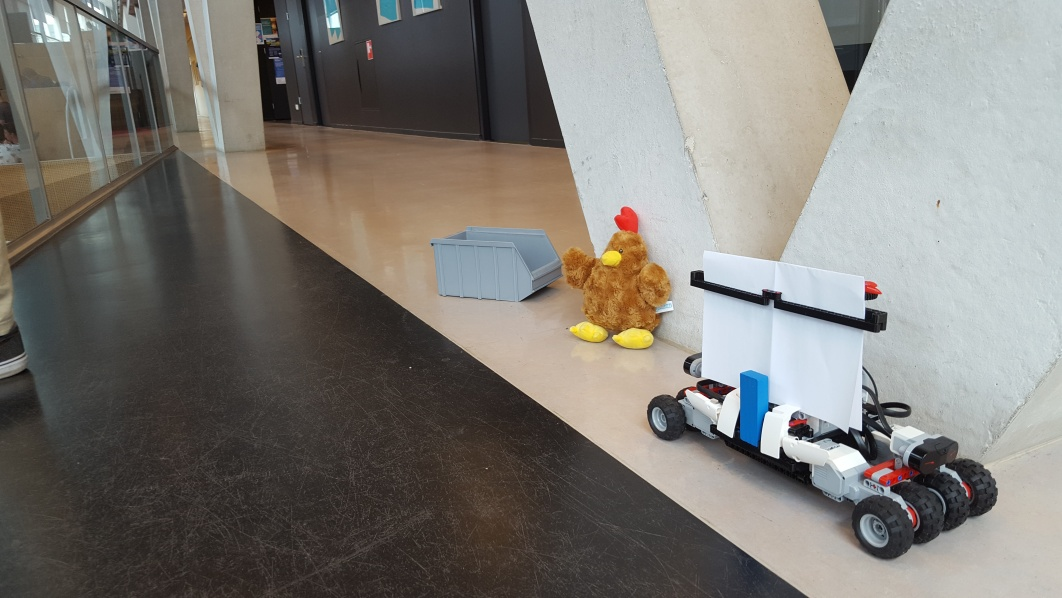car: (647, 252, 998, 560)
chicken: (563, 206, 673, 352)
tray: (430, 225, 566, 304)
